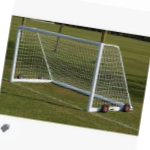goals: (11, 24, 135, 115)
